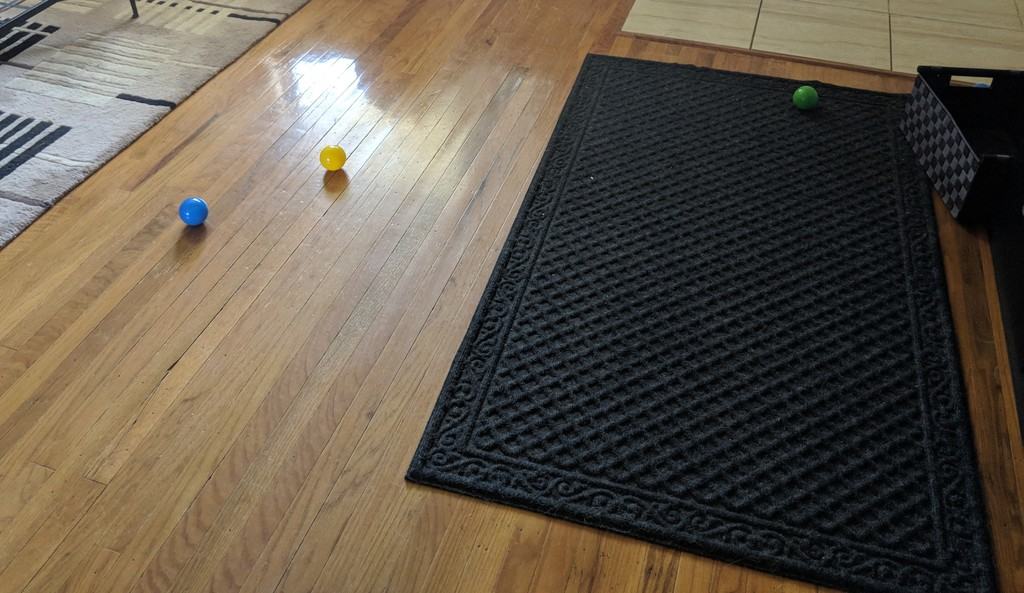ball: (319, 143, 347, 172)
